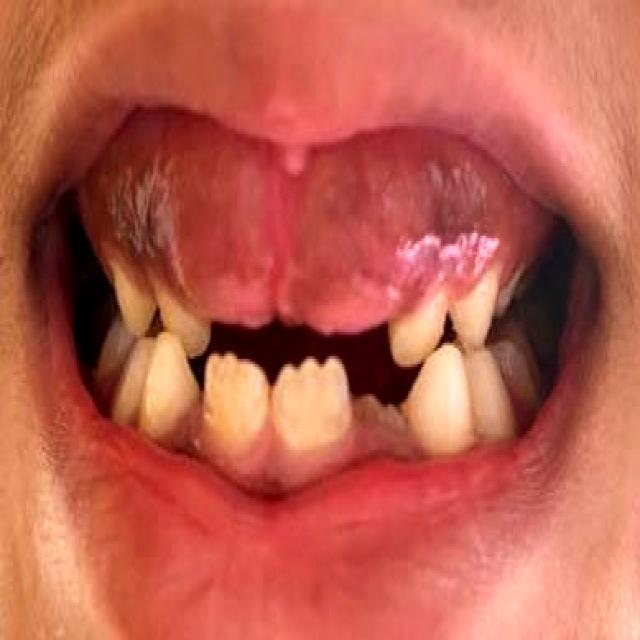gingivitis: (137, 115, 497, 329)
hypodontia: (143, 195, 503, 364), (342, 369, 424, 458)
